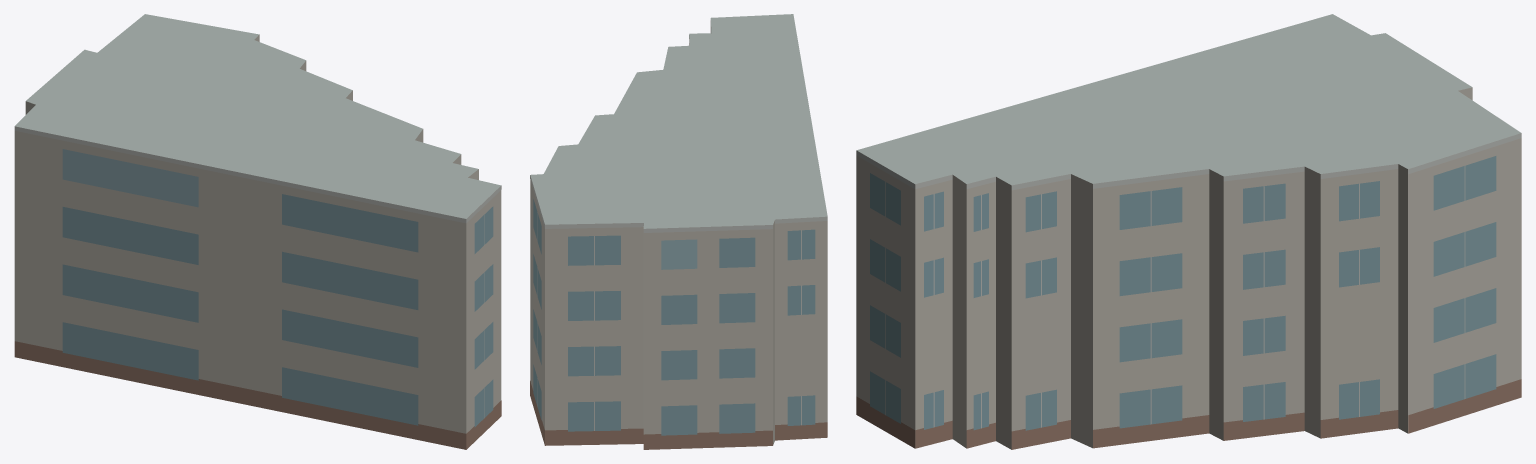
Rendered from survey-upis-32781249.glb.
3 views of the same model, side by side, from view 1: azimuth 30°, elevation 25°; view 2: azimuth 150°, elevation 25°; view 3: azimuth 270°, elevation 25° (orthographic). The views are drawn at different scales.
Parts seen in each view (by area): view 1: survey-upis-32781249.tmp; view 2: survey-upis-32781249.tmp; view 3: survey-upis-32781249.tmp.
Boxes of the visible parts, <box> form: survey-upis-32781249.tmp: <box>14,14,501,449</box>; survey-upis-32781249.tmp: <box>530,14,827,449</box>; survey-upis-32781249.tmp: <box>856,14,1521,449</box>.
Size of the model in its own units: 17.81 by 12.8 by 29.19.
